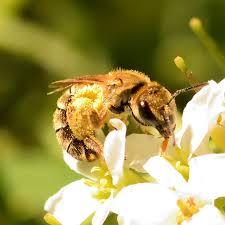Seladonia: (35, 59, 189, 165)
